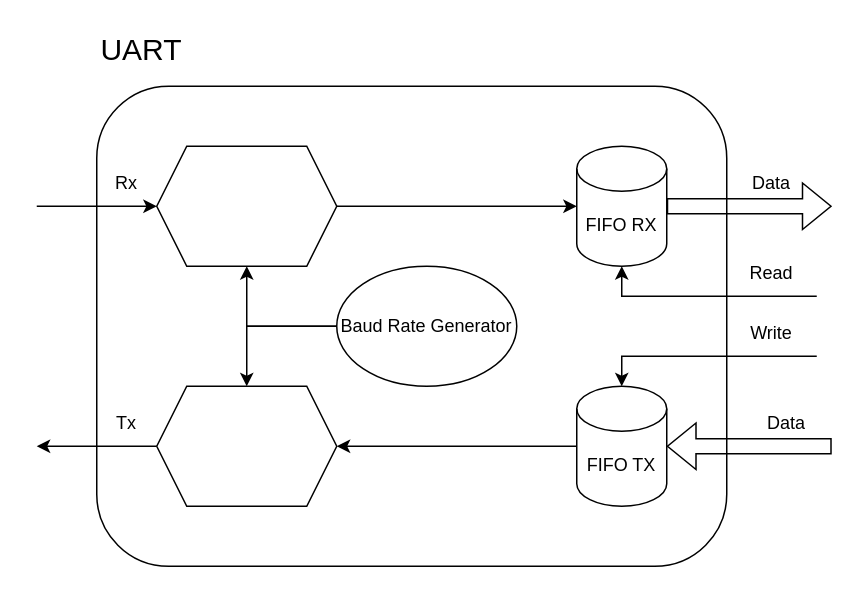
The diagram is 858 pixels wide and 593 high, and some of its shapes have lost their labels. Each missing label, with the centre of its shape:
"UART RX" goes at point (246, 205).
"UART TX" goes at point (246, 445).
